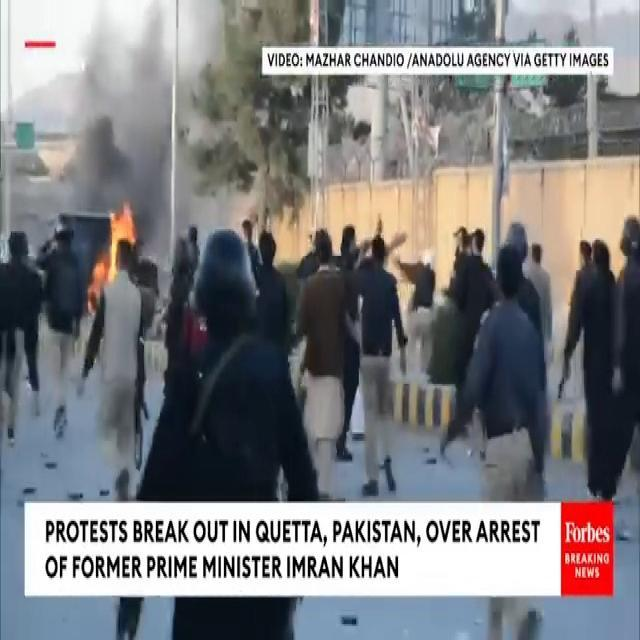Fire: (88, 201, 138, 306)
Smoke: (52, 0, 224, 238)
